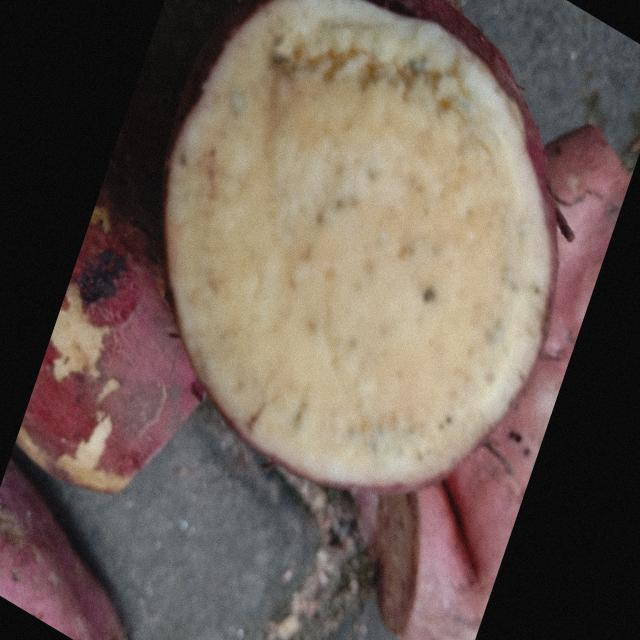Healthy Sweet Potato: (165, 2, 556, 490)
